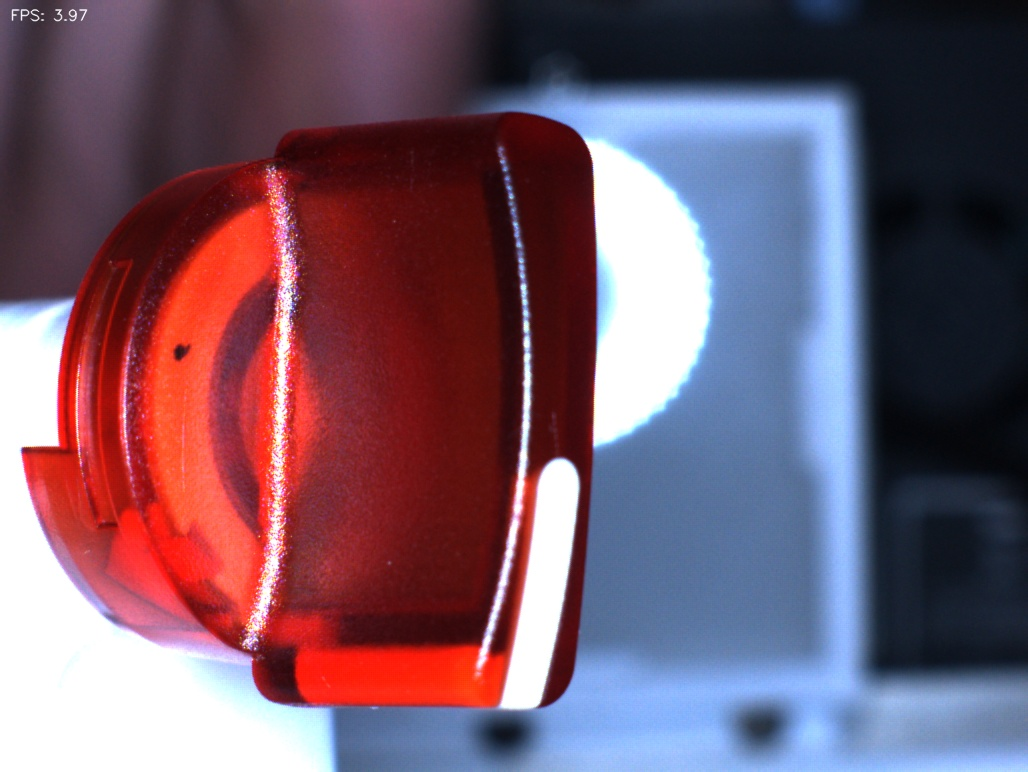PointNoir: (148, 295, 222, 397)
